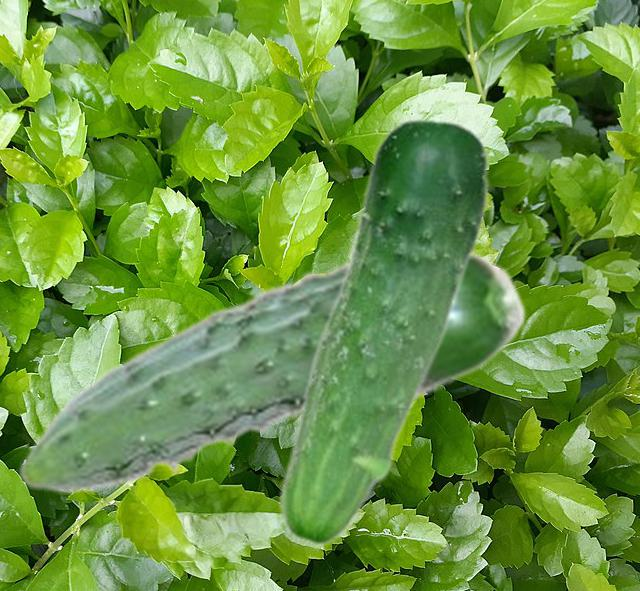cucumber: (17, 247, 527, 493), (276, 117, 490, 546)
